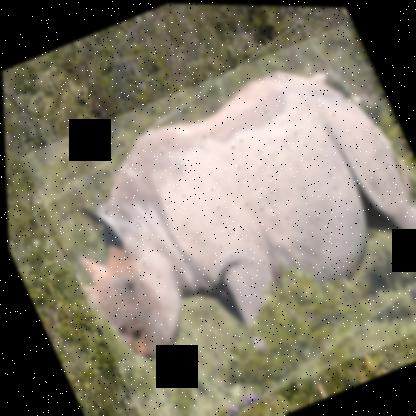Diceros bicornis: (15, 12, 415, 415)
